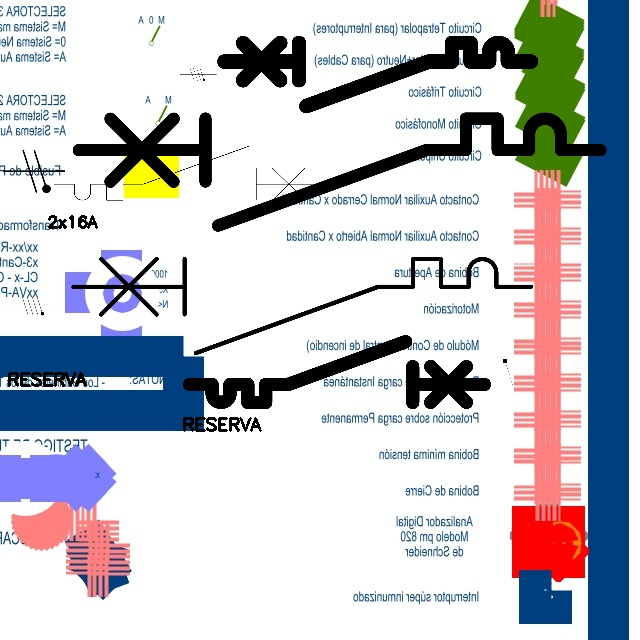interruptor_termomagnetico: (65, 105, 614, 239), (61, 247, 543, 365), (216, 35, 538, 114), (182, 334, 492, 410), (47, 139, 327, 207)
